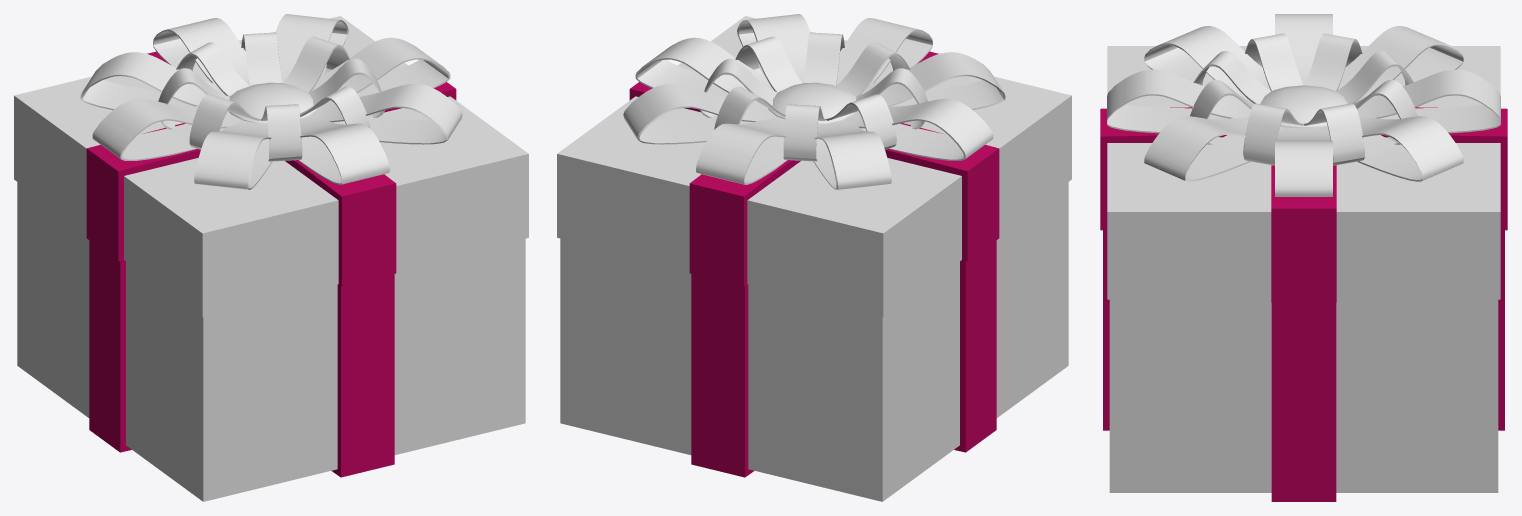
Rendered from present.fbx.
3 views of the same model, side by side, from view 1: azimuth 30°, elevation 25°; view 2: azimuth 150°, elevation 25°; view 3: azimuth 270°, elevation 25° (orthographic). The views are drawn at different scales.
Visible parts, largest first — view 1: present_bottom, present_top, present_bow; view 2: present_bottom, present_top, present_bow; view 3: present_bottom, present_top, present_bow.
Boxes of the visible parts, <box> form: present_bottom: <box>17,182,525,501</box>; present_top: <box>14,16,528,317</box>; present_bow: <box>80,14,462,189</box>; present_bottom: <box>560,182,1068,501</box>; present_top: <box>557,16,1071,317</box>; present_bow: <box>623,14,1005,189</box>; present_bottom: <box>1103,230,1504,501</box>; present_top: <box>1100,46,1507,302</box>; present_bow: <box>1107,14,1500,196</box>.
Bounding box in the file's own units: 210 × 197 × 210.
